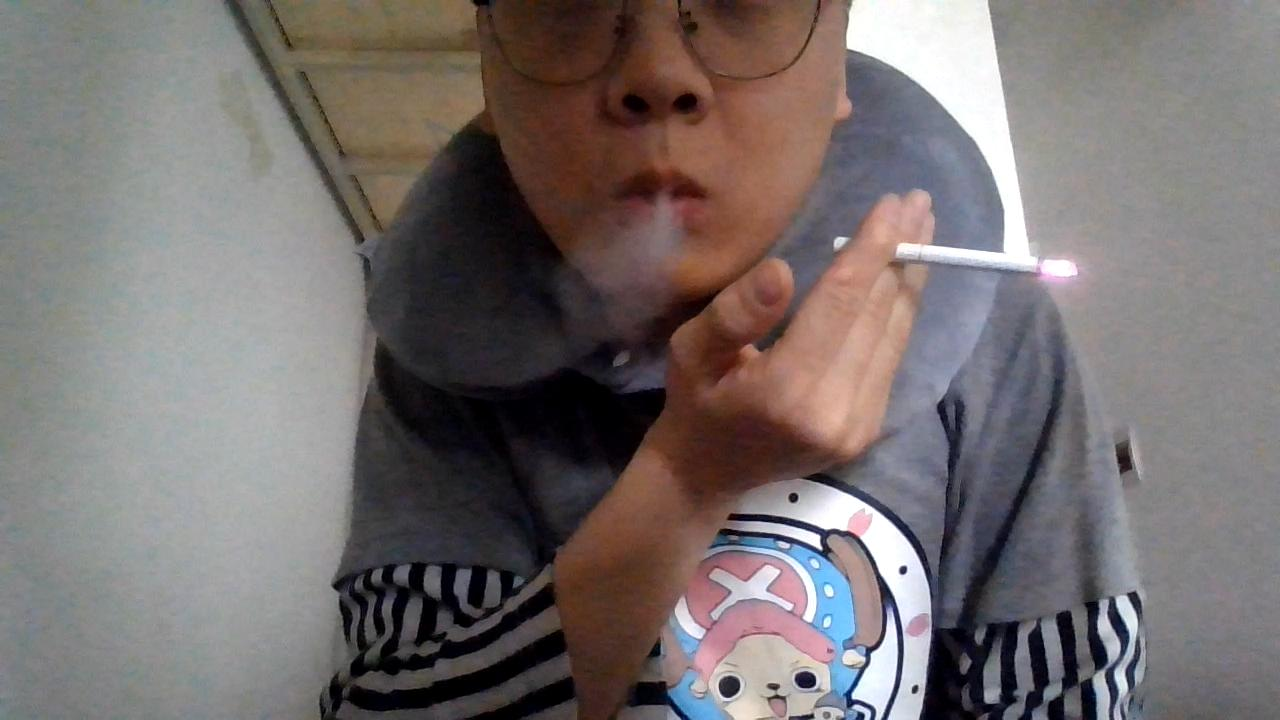yanwu: (563, 202, 680, 326)
